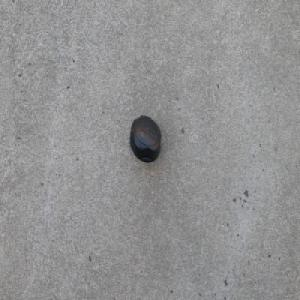FuelCap: (129, 115, 161, 163)
